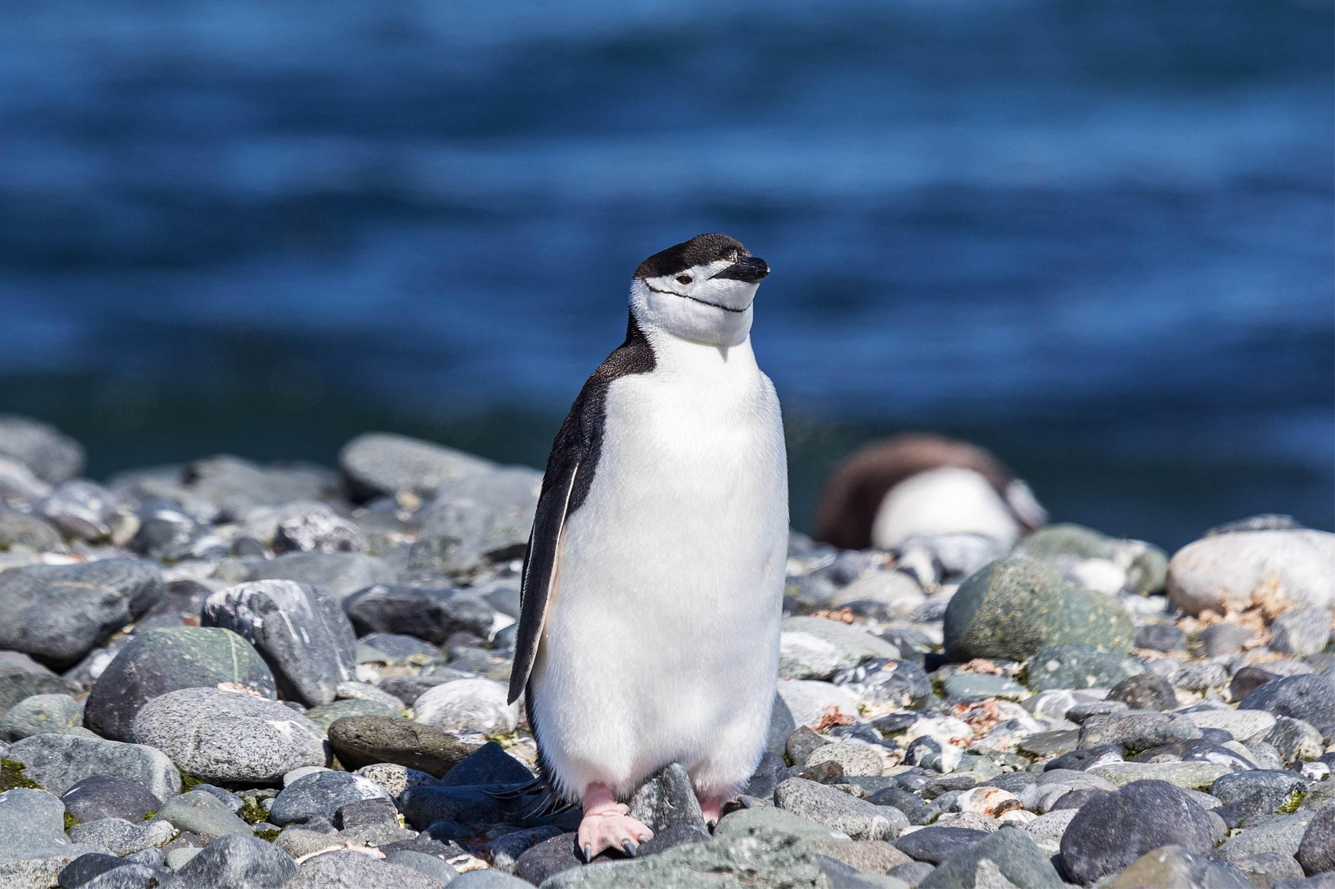Penguin: (508, 234, 787, 857)
